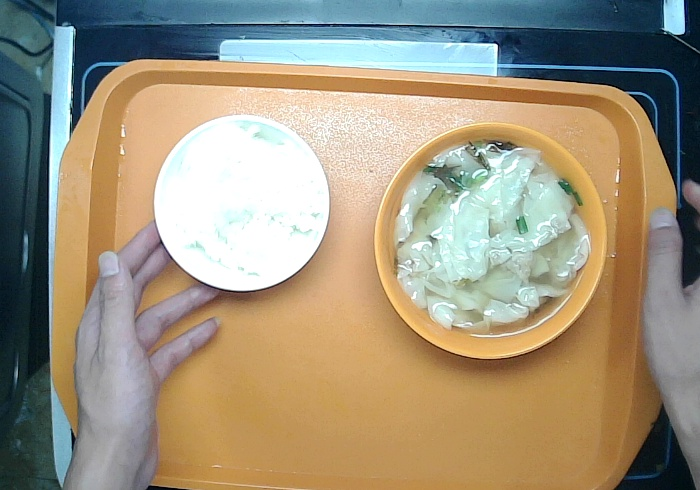NLDX-Fan_Wan: (146, 107, 337, 305)
NLDX-Hun_Tun_Wan: (357, 115, 612, 363)
